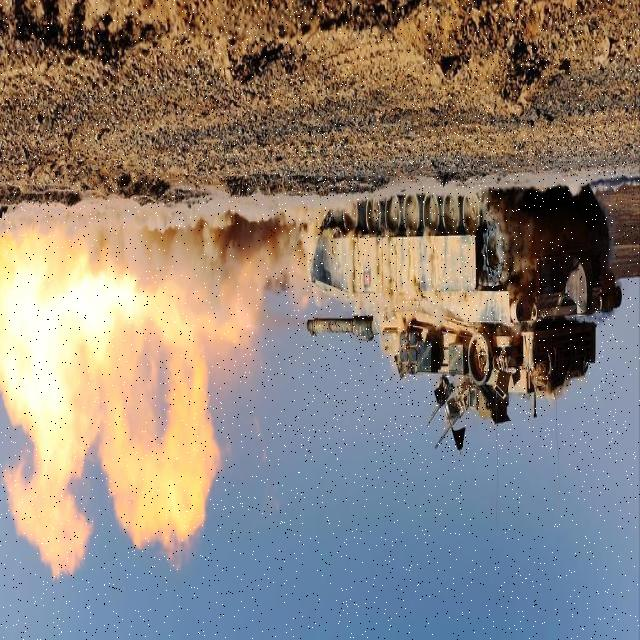MIL_MBT: (291, 118, 617, 449)
